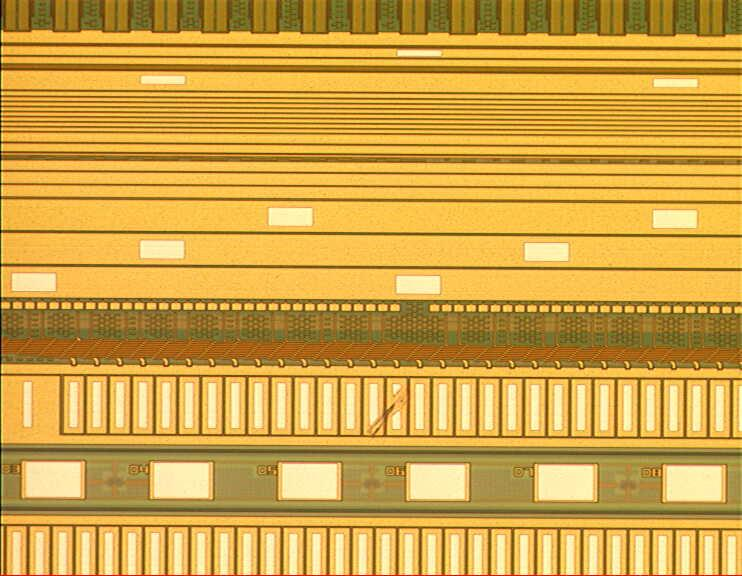SCRATCH: (348, 367, 435, 454)
